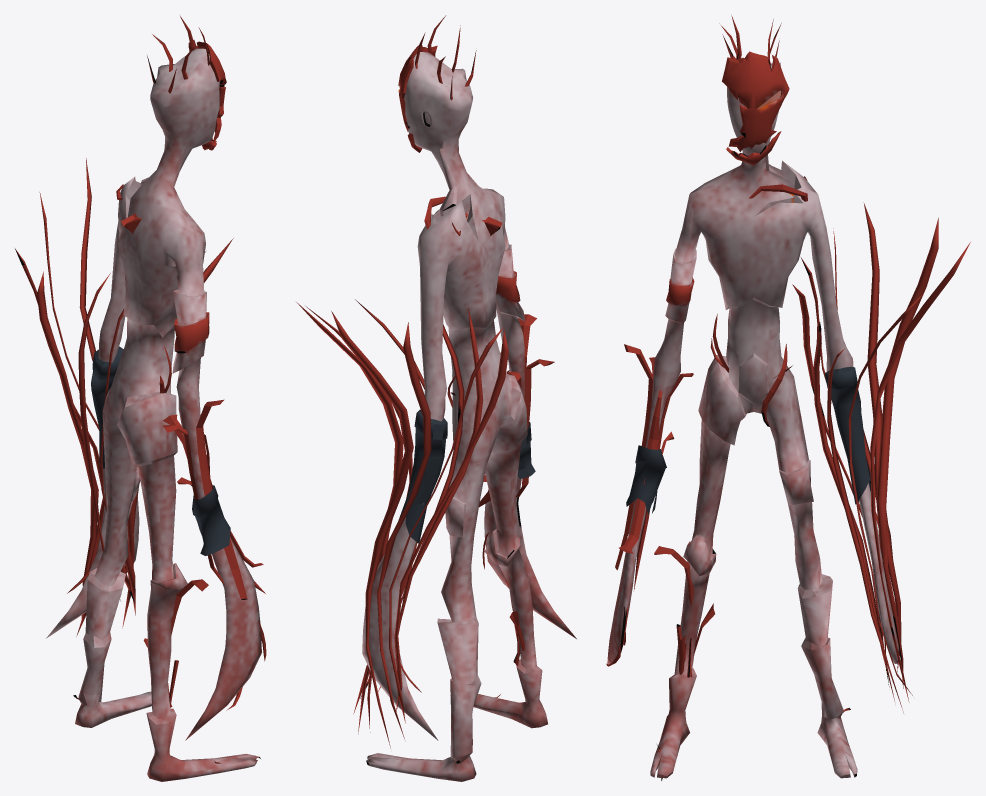
File: Отродье.fbx
3 renders of one model, left to right at view 1: azimuth 30°, elevation 25°; view 2: azimuth 150°, elevation 25°; view 3: azimuth 270°, elevation 25°, orthographic. The views are drawn at different scales.
Visible parts, largest first — view 1: CLAWS; view 2: CLAWS; view 3: CLAWS.
Boxes of the visible parts, <box> form: CLAWS: <box>15,16,266,781</box>; CLAWS: <box>296,15,576,781</box>; CLAWS: <box>606,15,970,780</box>.
Size of the model in its own units: 0.9713 by 3.15 by 1.39.
1 material, 1 textured.
